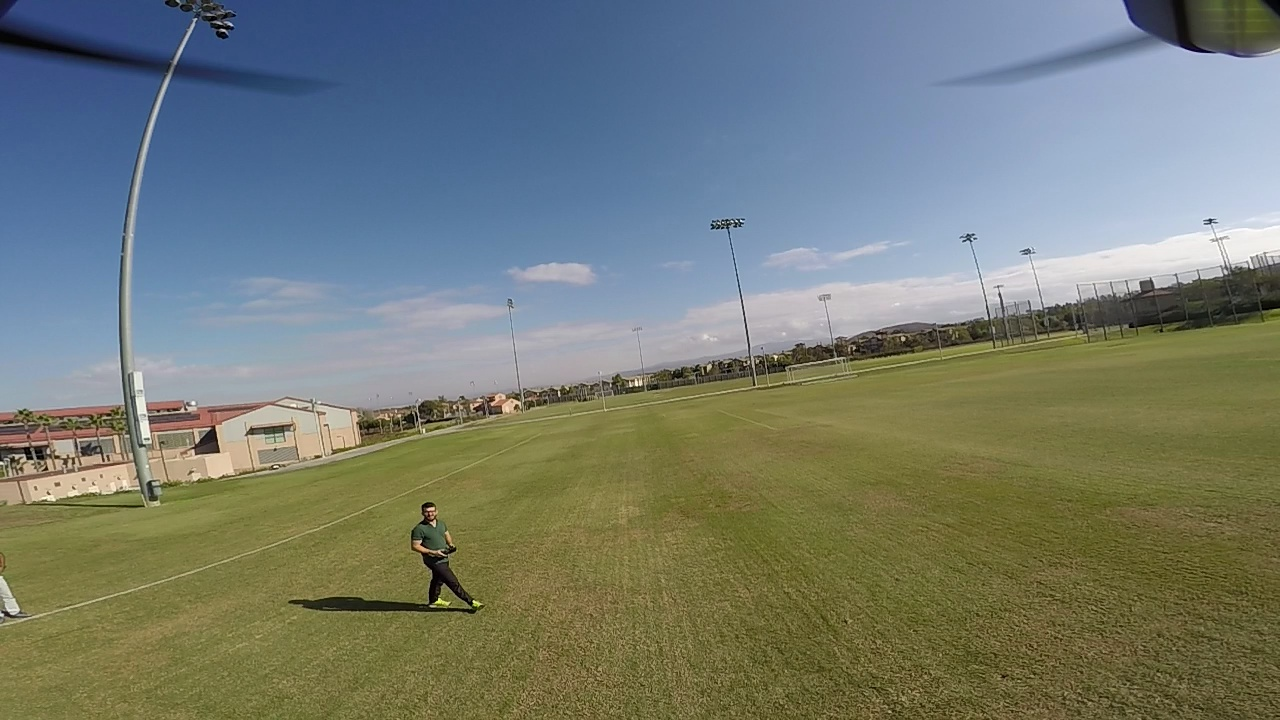person: (403, 498, 473, 611), (0, 548, 17, 619)
